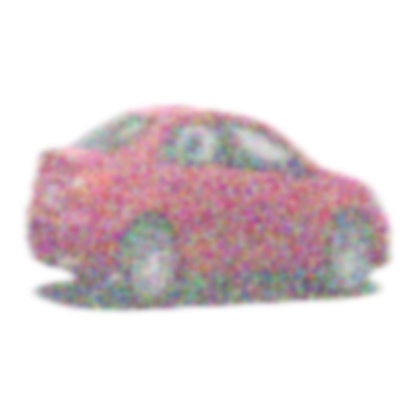Vehicle: (27, 107, 389, 307)
